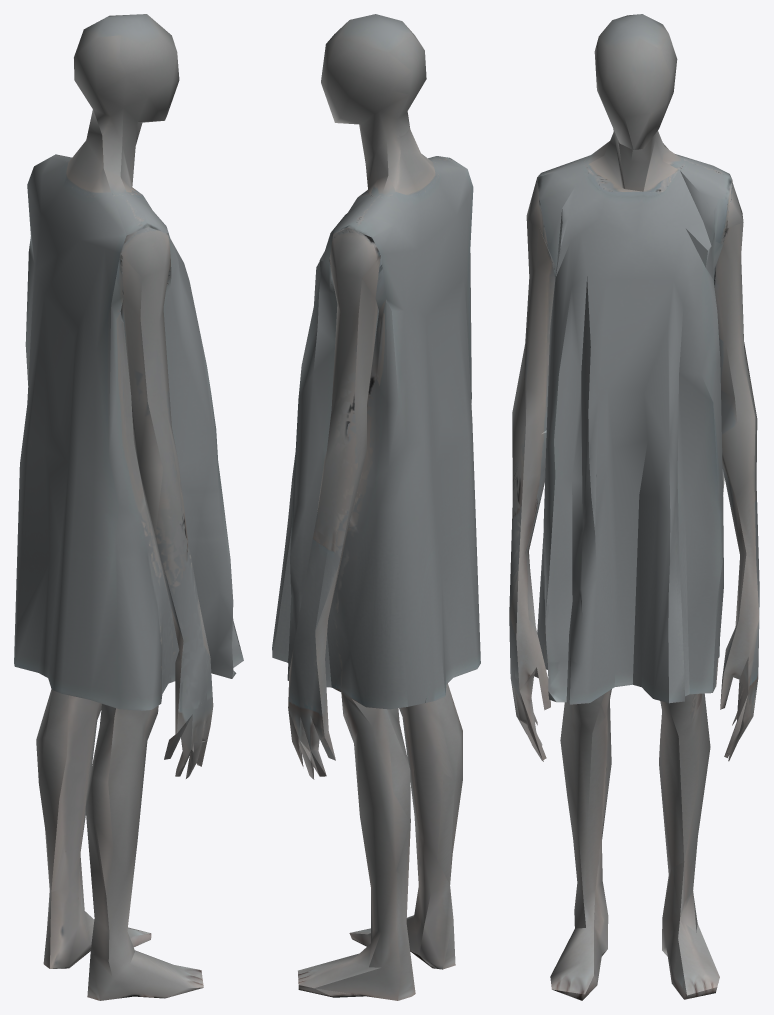
3 renders of one model, left to right at view 1: azimuth 30°, elevation 25°; view 2: azimuth 150°, elevation 25°; view 3: azimuth 270°, elevation 25°, orthographic.
Visible parts, largest first — view 1: repaired; view 2: repaired; view 3: repaired.
Part boxes in pixels (x1,y1,x2,y2): repaired: (14, 14, 243, 1000); repaired: (272, 14, 480, 1000); repaired: (509, 14, 759, 1000).
Size of the model in its own units: 0.1941 by 0.9995 by 0.2375.
